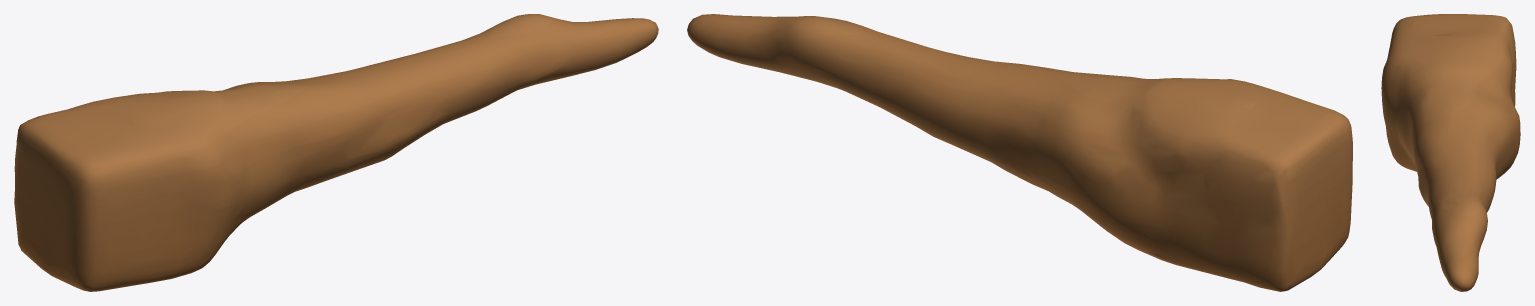
The model's file is Branch1 B1.fbx.
3 views of the same model, side by side, from view 1: azimuth 30°, elevation 25°; view 2: azimuth 150°, elevation 25°; view 3: azimuth 270°, elevation 25° (orthographic). The views are drawn at different scales.
Visible parts, largest first — view 1: Branch1 B1; view 2: Branch1 B1; view 3: Branch1 B1.
Part boxes in pixels (box(x1,y1,x2,y2)): Branch1 B1: box(14, 14, 658, 291); Branch1 B1: box(687, 14, 1352, 291); Branch1 B1: box(1381, 14, 1520, 291).
Size of the model in its own units: 31.23 by 7.51 by 7.46.
